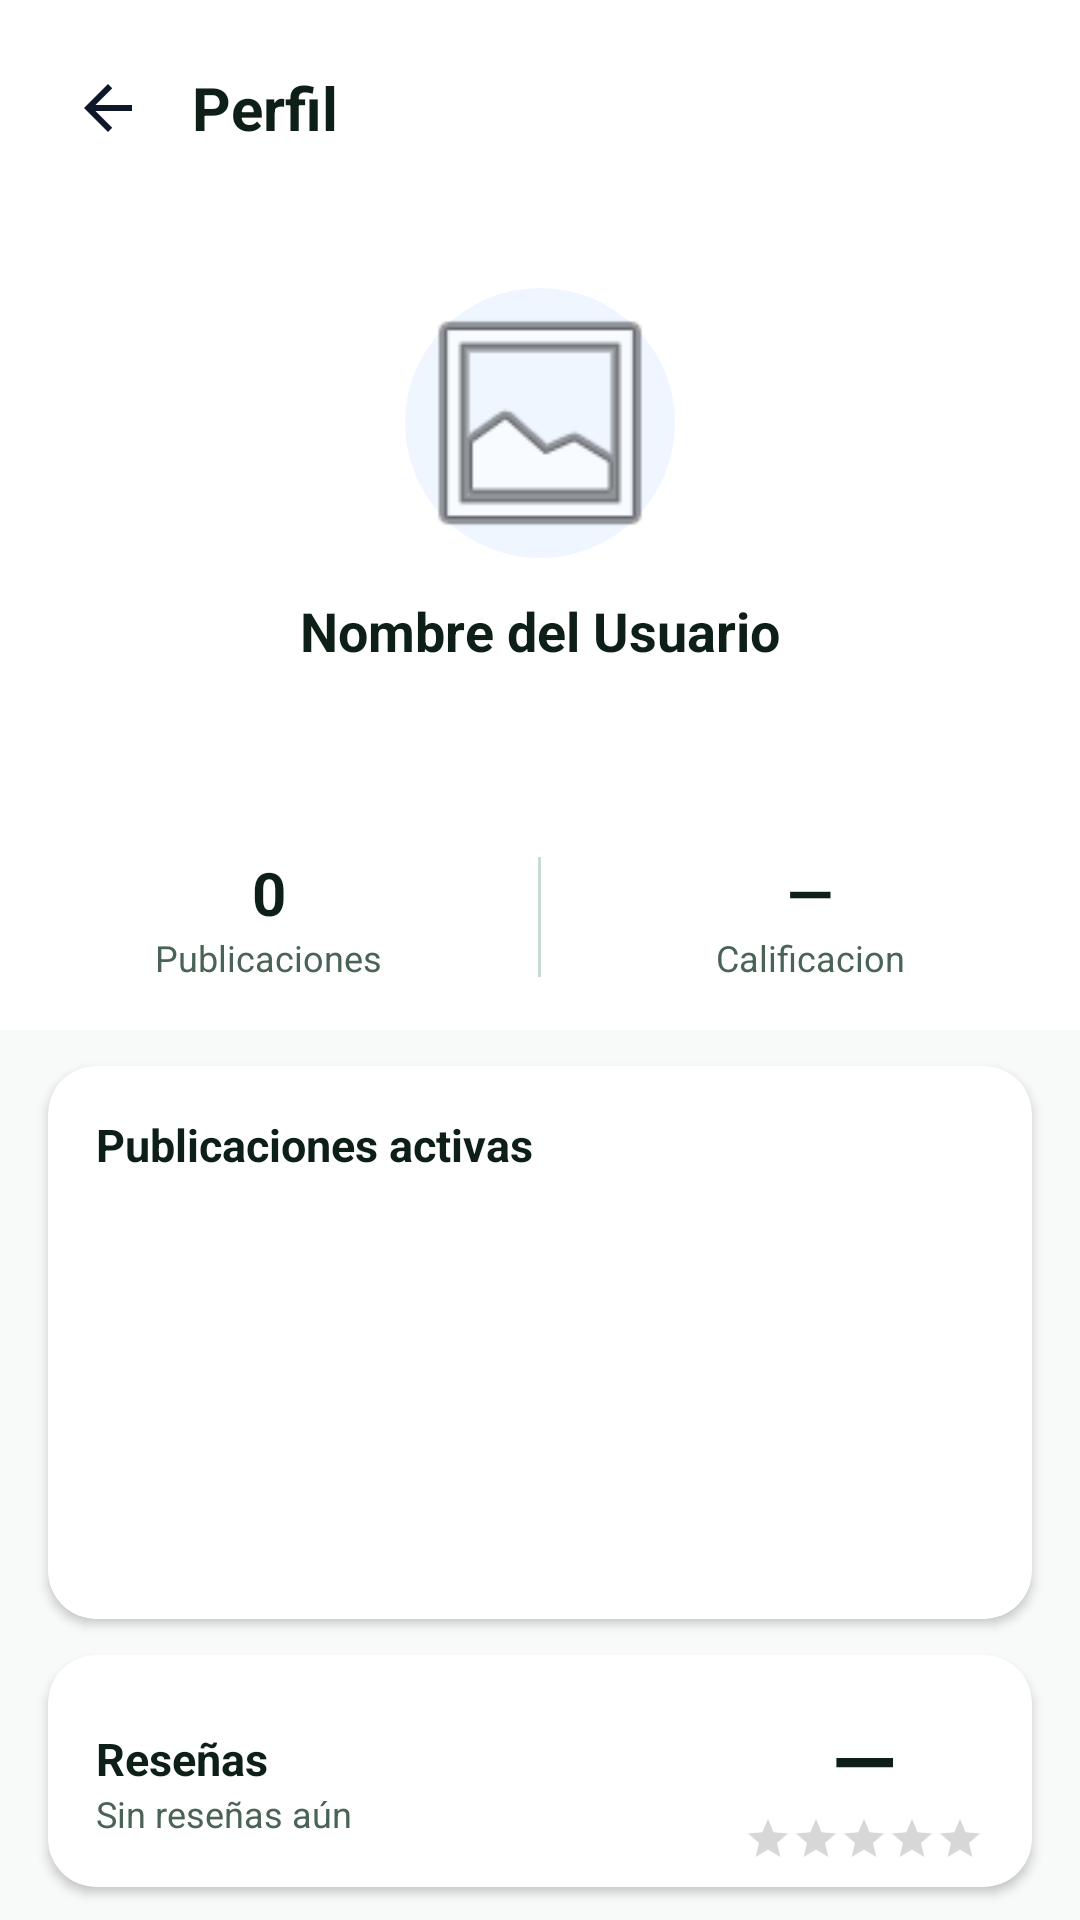

Screen size 1080px×1920px. Icon name, then its center in pixels as point (x, y):
gallery: point (540, 423)
Volver: point (108, 108)
